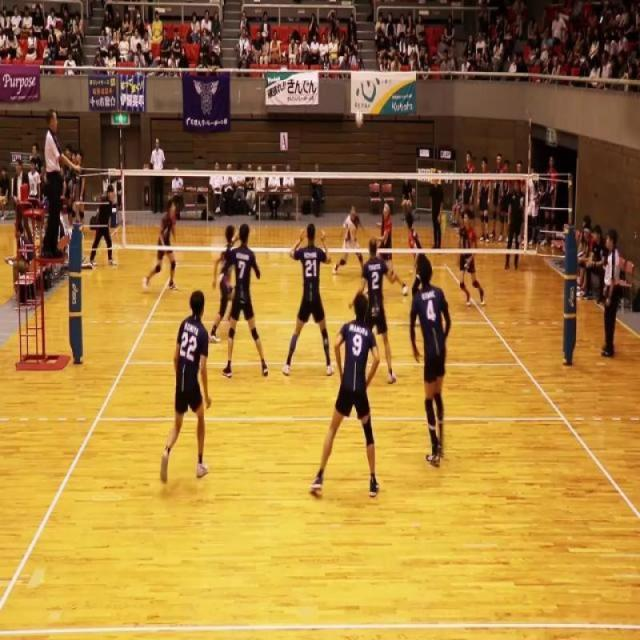volleyball: (355, 108, 363, 130)
